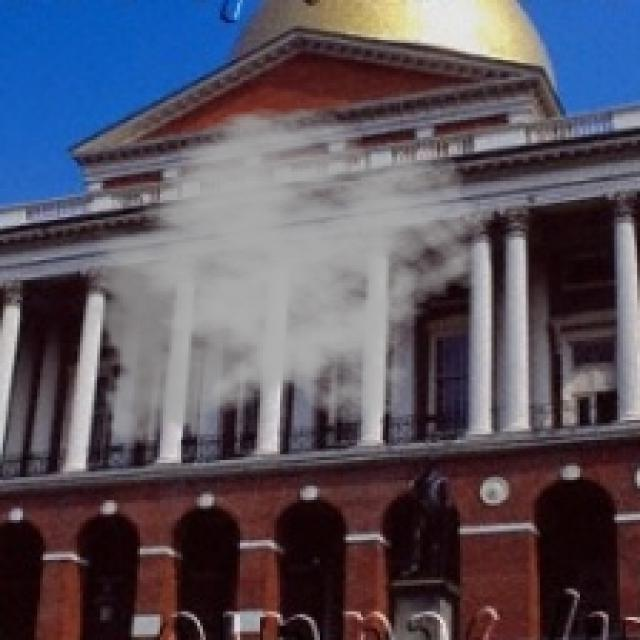Smoke: (80, 106, 500, 460)
